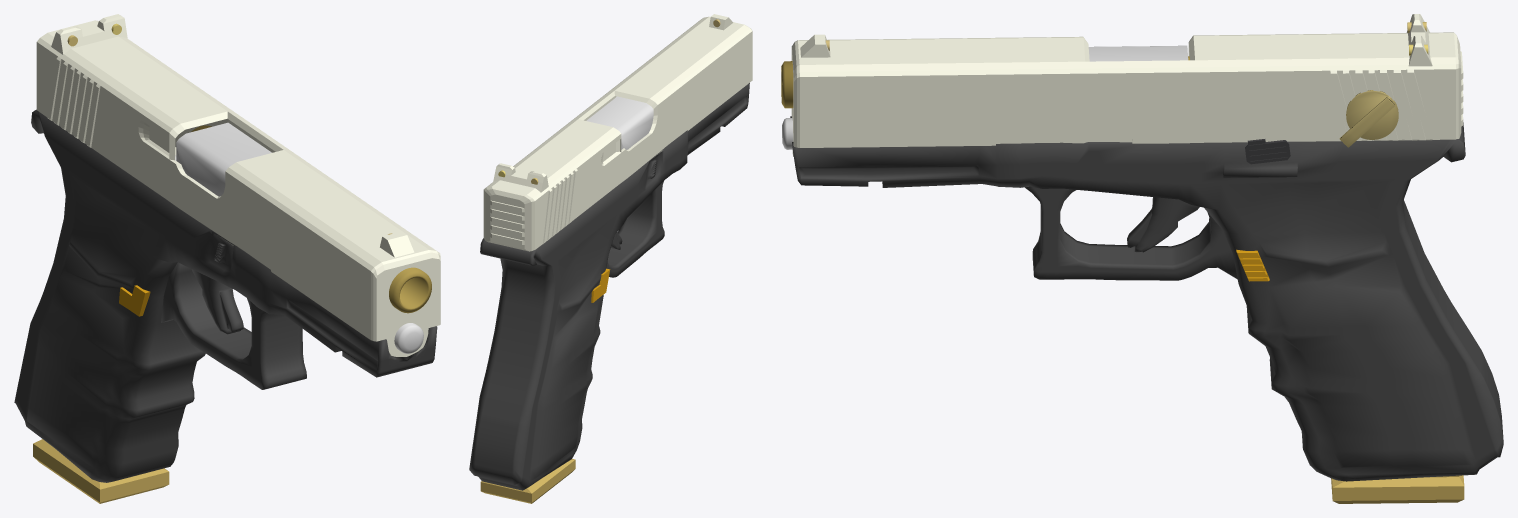
Rendered from Glock18.gltf.
The picture shows the model from 3 angles, left to right: view 1: azimuth 30°, elevation 25°; view 2: azimuth 150°, elevation 25°; view 3: azimuth 270°, elevation 25°; orthographic projection. The views are drawn at different scales.
Parts seen in each view (by area): view 1: Cube, Cube.001, Cube.002, Cube.003, Cylinder, Cylinder.001, Cube.008; view 2: Cube, Cube.001, Cube.002, Cube.003; view 3: Cube, Cube.001, Cube.003, Cylinder.016, Cube.002, Cube.004.
Part boxes in pixels (<box>): Cube: <box>14,109,437,482</box>; Cube.001: <box>36,14,440,356</box>; Cube.002: <box>176,122,271,196</box>; Cube.003: <box>33,439,169,503</box>; Cylinder: <box>191,125,431,313</box>; Cylinder.001: <box>394,323,423,353</box>; Cube.008: <box>119,285,150,316</box>; Cube: <box>469,83,749,490</box>; Cube.001: <box>483,14,752,251</box>; Cube.002: <box>586,96,653,149</box>; Cube.003: <box>480,459,575,503</box>; Cube: <box>790,116,1503,481</box>; Cube.001: <box>791,14,1463,156</box>; Cube.003: <box>1331,475,1464,503</box>; Cylinder.016: <box>1339,90,1398,147</box>; Cube.002: <box>1088,45,1188,61</box>; Cube.004: <box>1245,139,1290,164</box>.
Bounding box in the file's own units: 0.4978 × 2.31 × 3.3.
